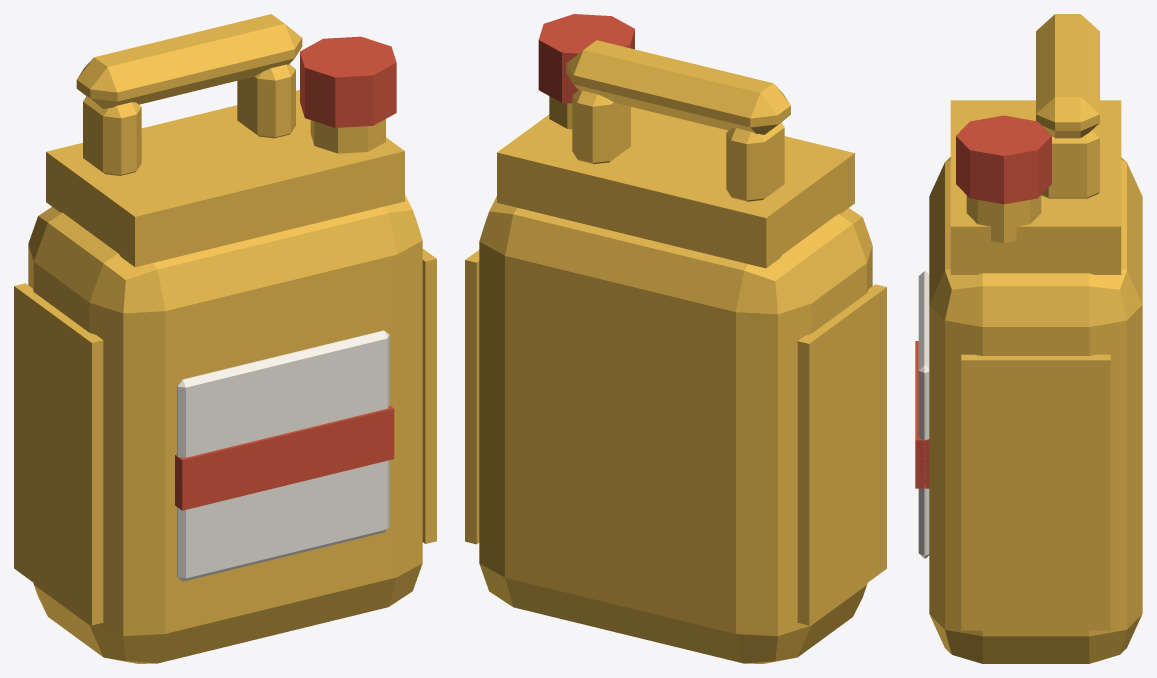
File: jerigen.glb
The picture shows the model from 3 angles, left to right: view 1: azimuth 30°, elevation 25°; view 2: azimuth 150°, elevation 25°; view 3: azimuth 270°, elevation 25°; orthographic projection. The views are drawn at different scales.
Visible parts, largest first — view 1: jerigen_mesh; view 2: jerigen_mesh; view 3: jerigen_mesh.
Boxes of the visible parts, x1,y1,x2,y2 form: jerigen_mesh: (14,14,436,663); jerigen_mesh: (465,14,886,663); jerigen_mesh: (915,14,1142,663).
Size of the model in its own units: 0.358 by 0.5625 by 0.213.
